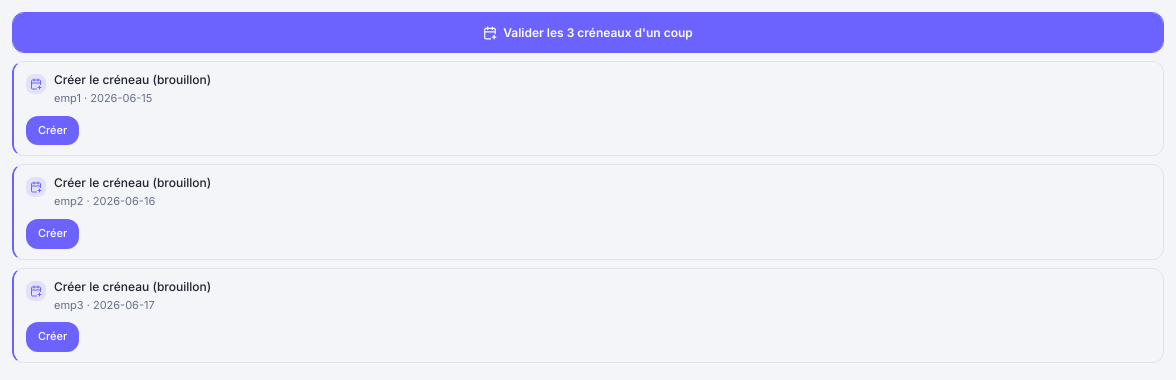
MarkdownText — validation groupée de plusieurs create_shift › affiche un bouton unique pour plusieurs créneaux proposés, et les crée tous en un clic
The image size is (1176, 380).
Click the button "Valider les 3 créneaux d'un coup": point(588, 33) [13,13,1163,52]
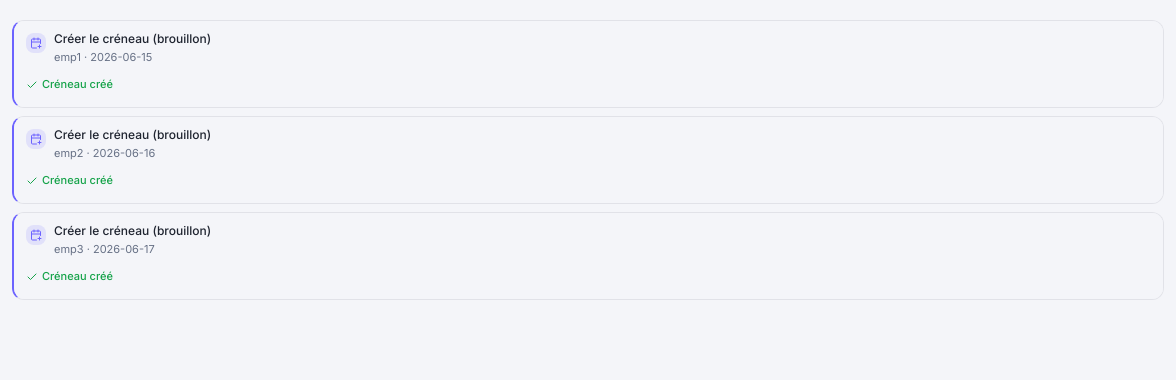
Expected: the text "Créneau créé" is shown 3 times, [26,76,113,93]; [26,172,113,189]; [26,268,113,285]
Expected: the button "Valider les" is gone
